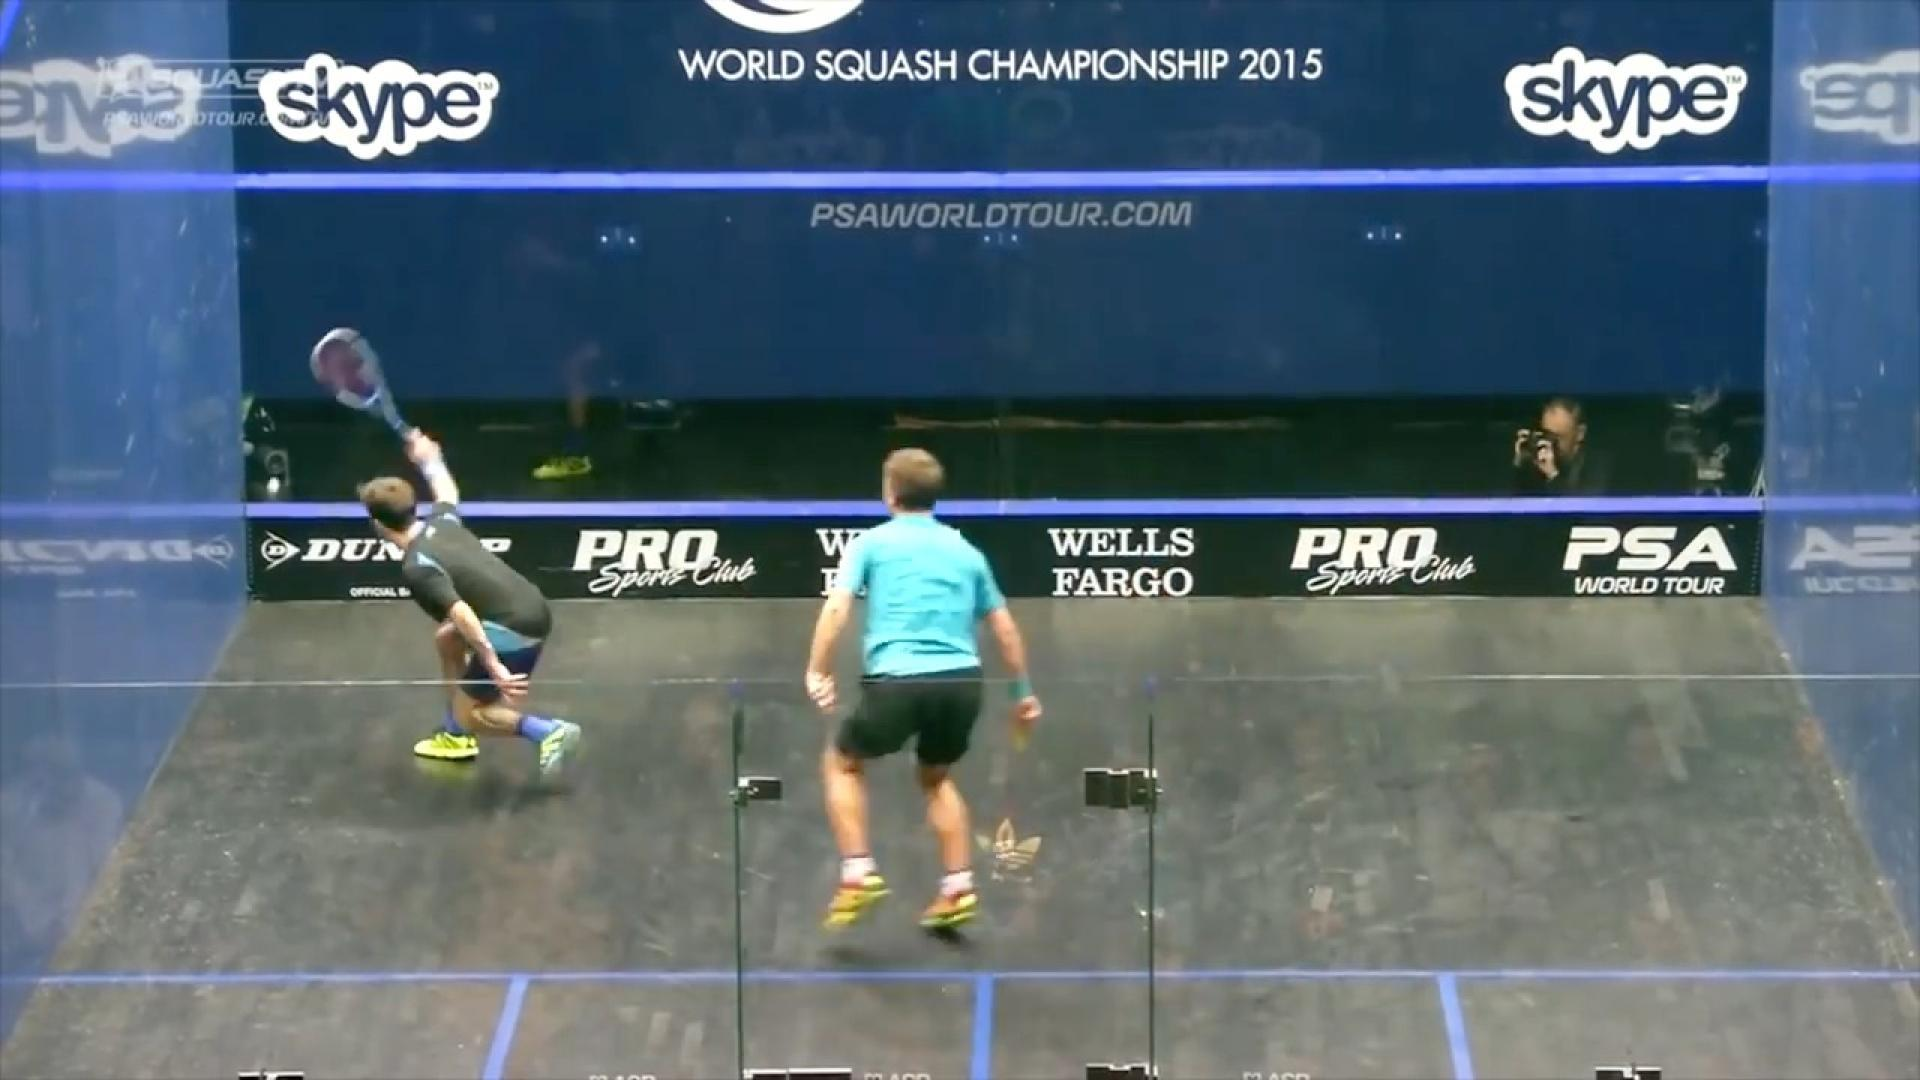Squash-Ball: (255, 465, 305, 510)
